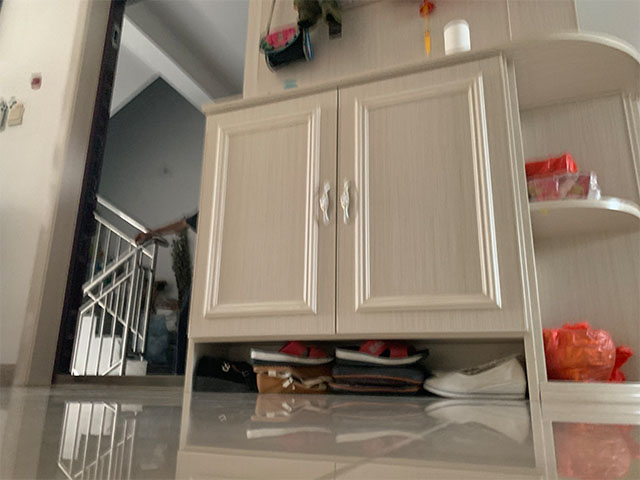cabinet: (188, 41, 640, 409)
